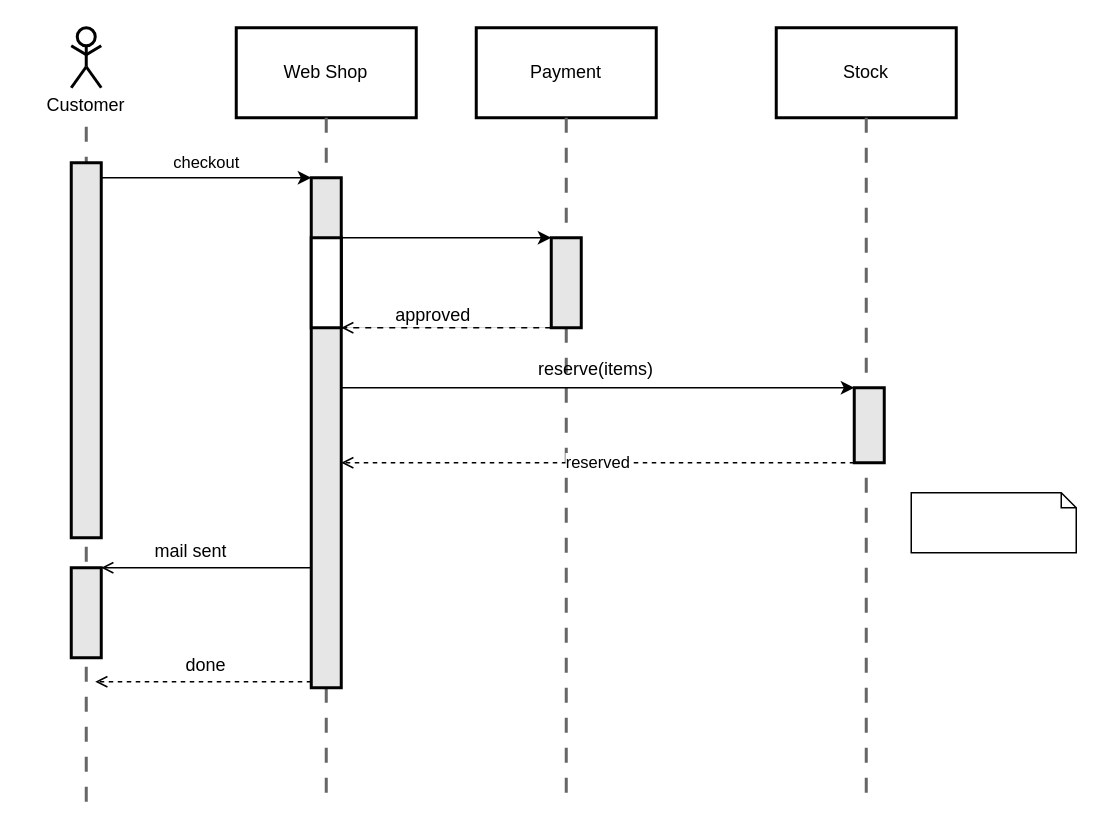
Some shapes in this 1103 by 836 pixel diagram are drawn without their labels. The shapes that lost their labels are listed below. From the top down, each one's box as (x1, y1, x2, y2) in pixels, then its label:
(310, 237, 550, 327): authorize(card)
(910, 491, 1076, 553): checks stock levels
